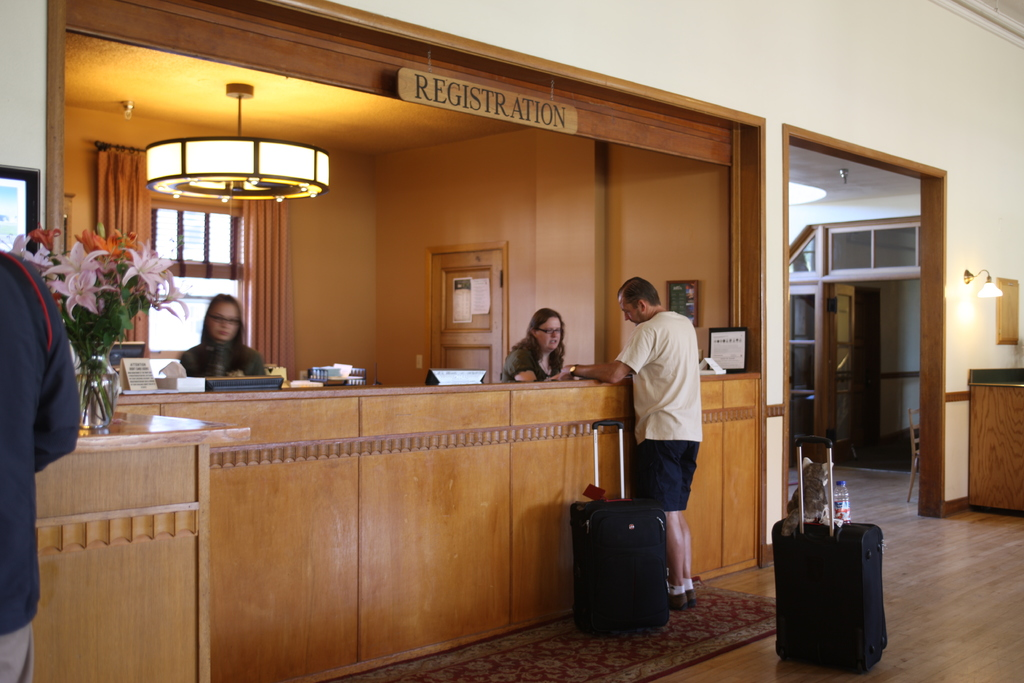Person: (544, 275, 702, 610), (0, 249, 80, 683), (179, 292, 264, 374), (499, 308, 564, 381)
